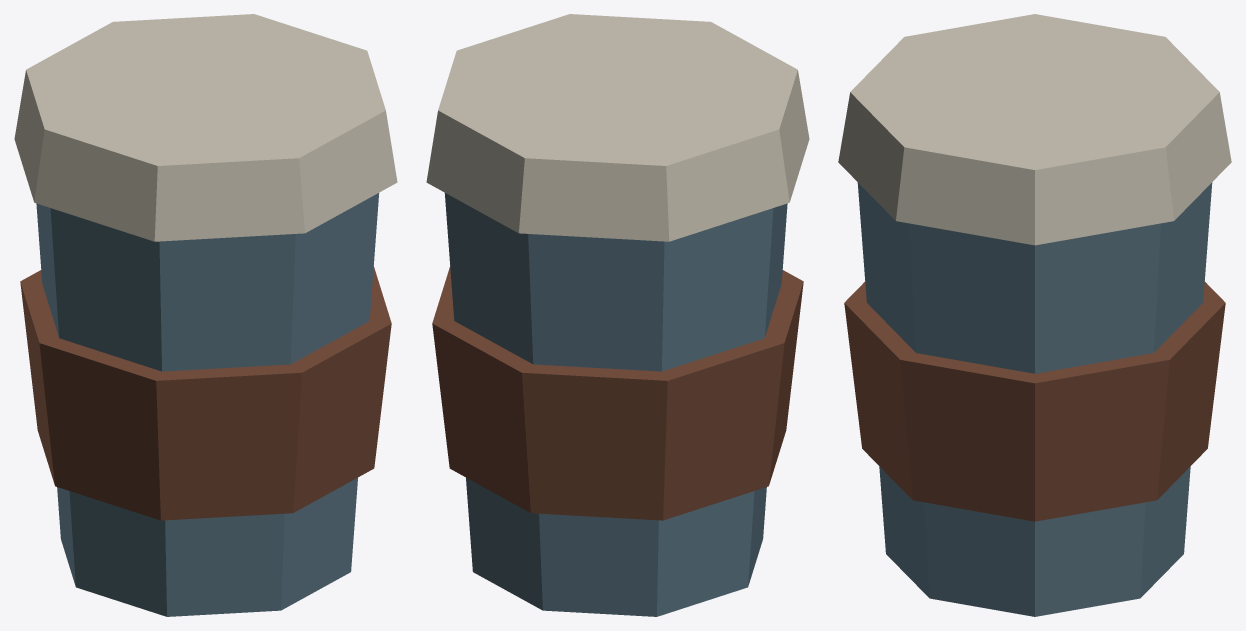
The model's file is coffee-cup-90be67.glb.
3 renders of one model, left to right at view 1: azimuth 30°, elevation 25°; view 2: azimuth 150°, elevation 25°; view 3: azimuth 270°, elevation 25°, orthographic.
Bounding box in the file's own units: 0.132 × 0.171 × 0.132.
